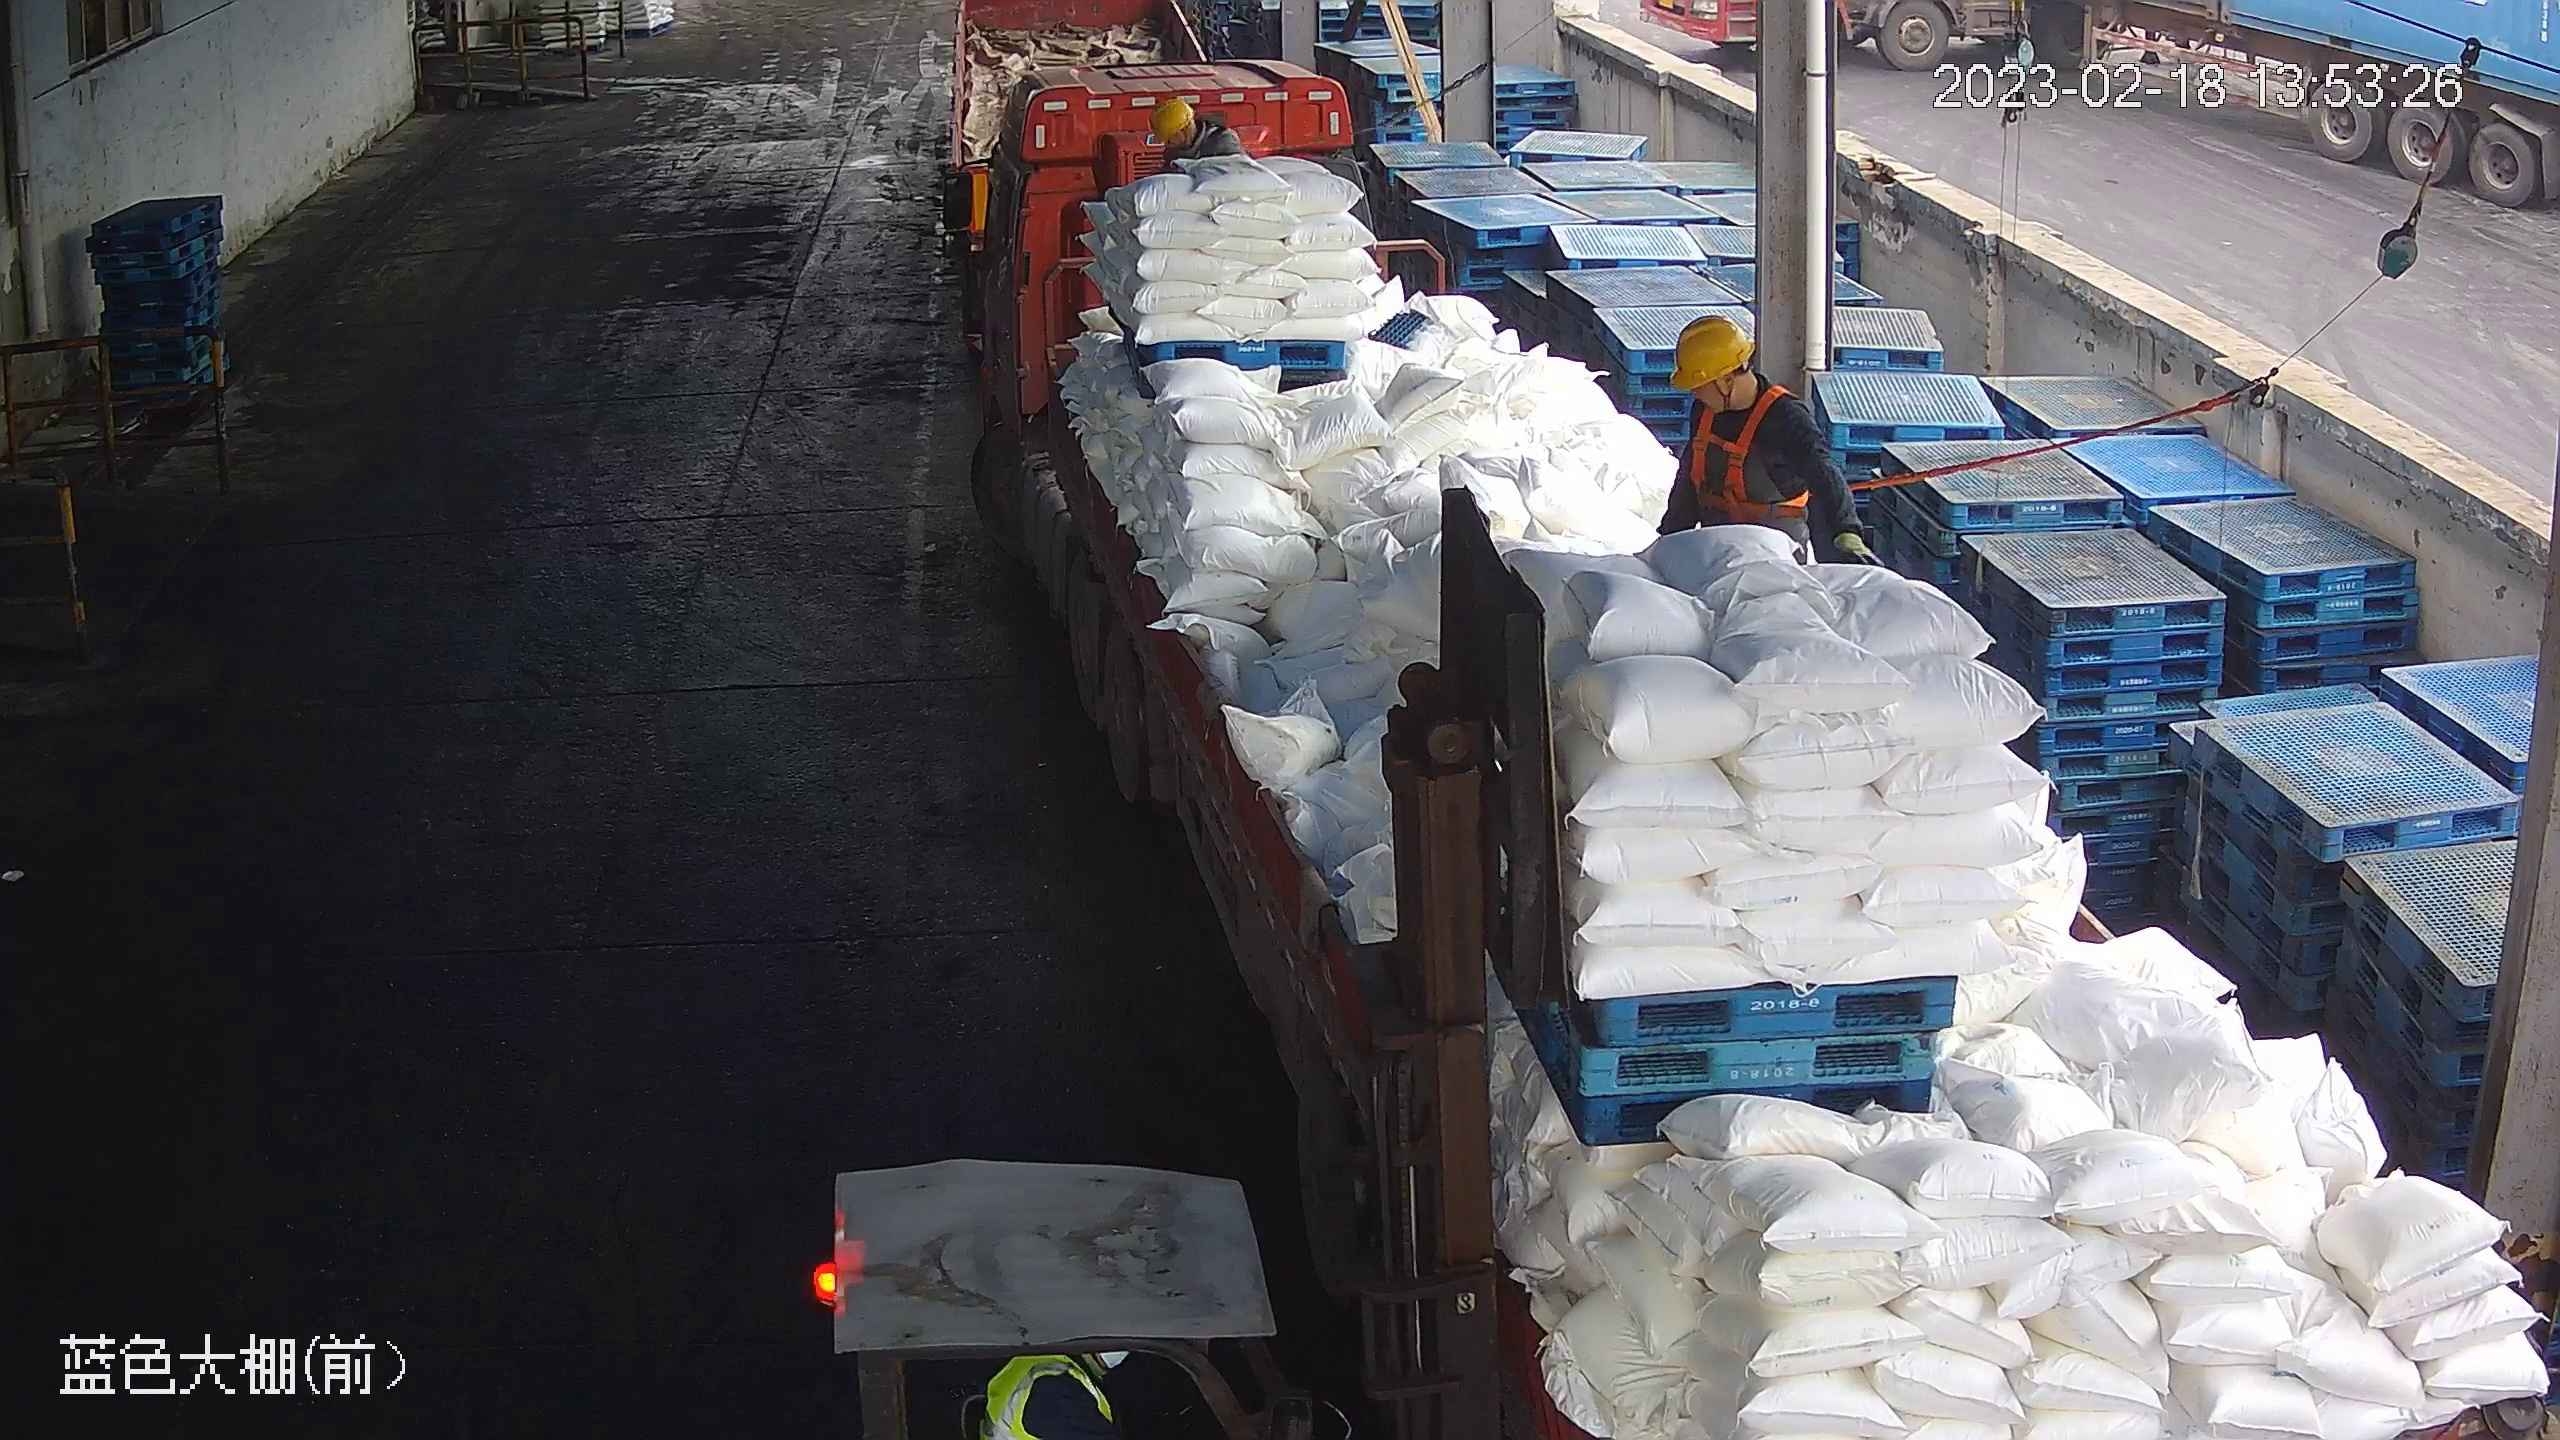belt: (1687, 383, 1873, 520)
head: (1664, 310, 1828, 444), (1148, 98, 1244, 159)
helmet: (1668, 313, 1756, 392), (1146, 97, 1196, 145)
people: (1657, 313, 1887, 569)
truck: (966, 55, 2560, 1440)
